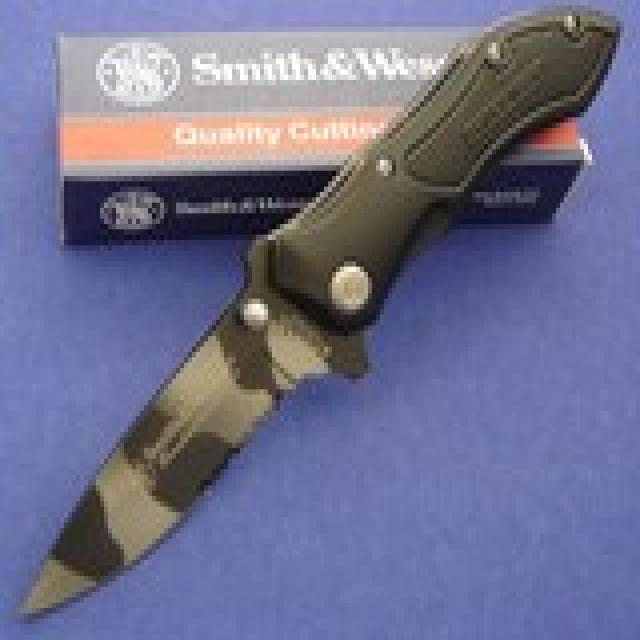Knife: (18, 9, 630, 636)
